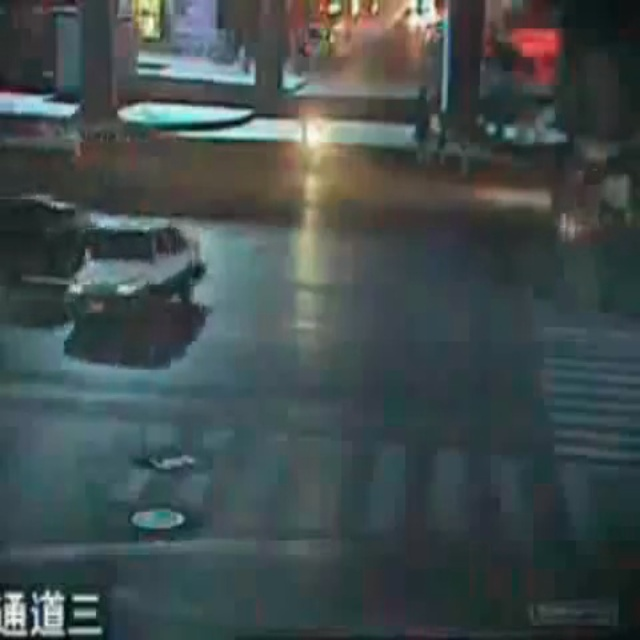acc: (1, 180, 216, 343)
